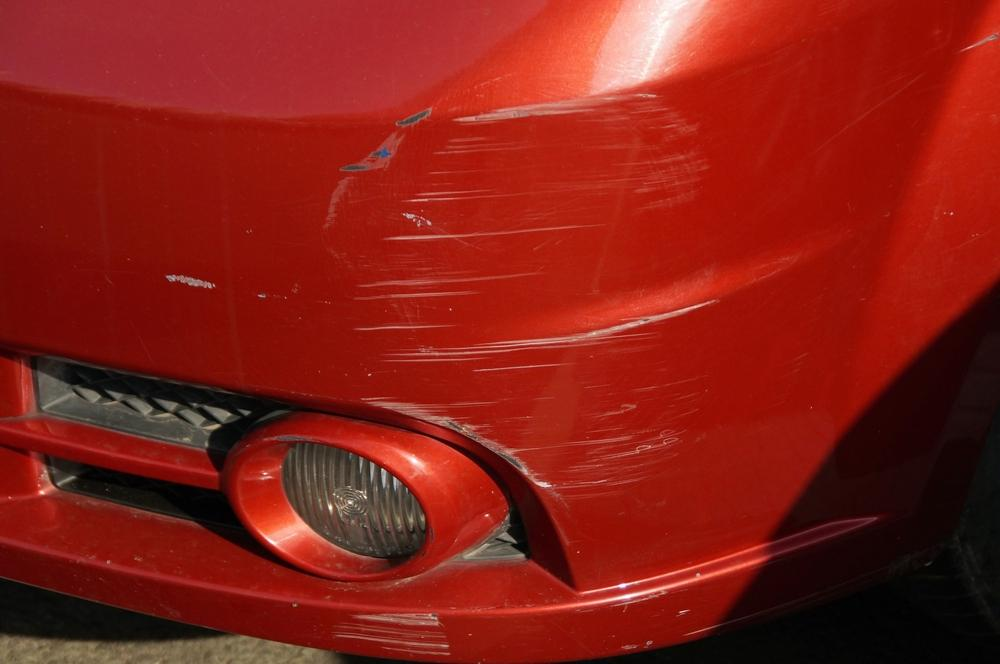scratch: (151, 86, 720, 506), (330, 606, 456, 664)
